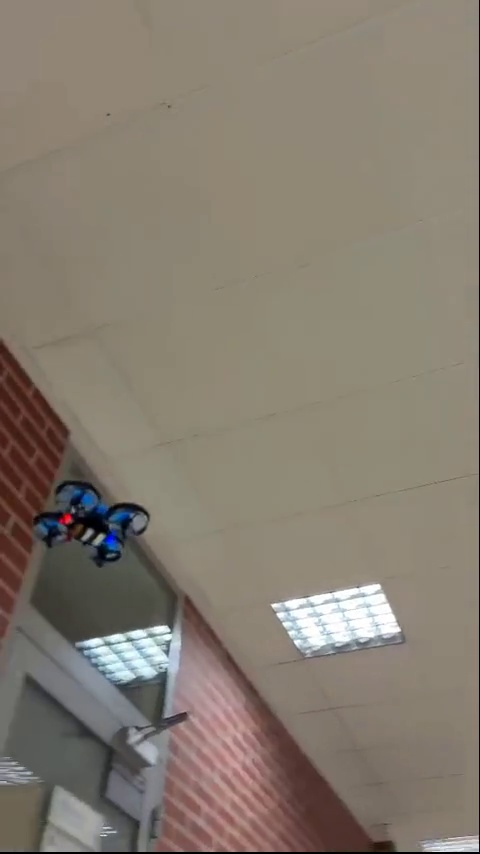drone: (32, 482, 152, 568)
